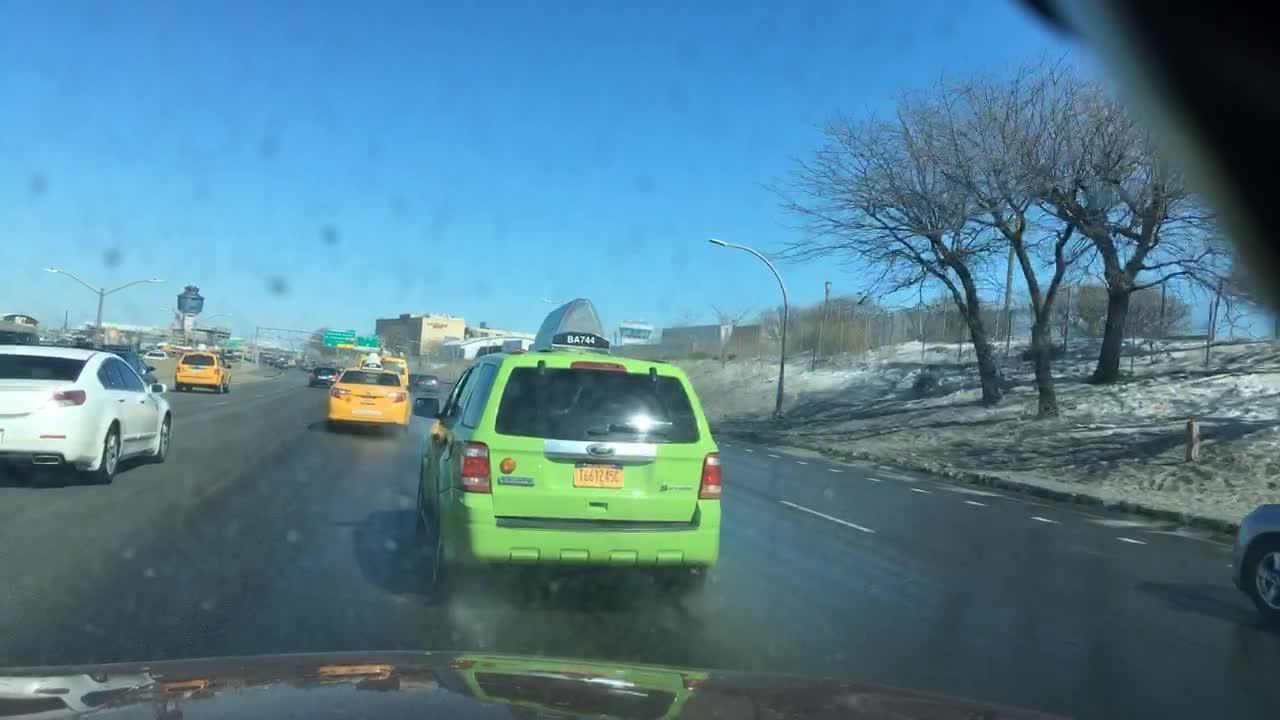ford: (580, 436, 636, 465)
